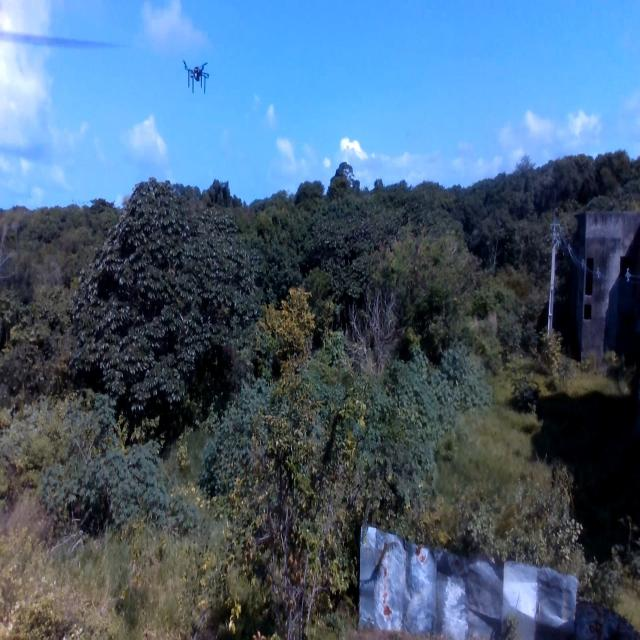-uav-: (175, 47, 223, 117)
